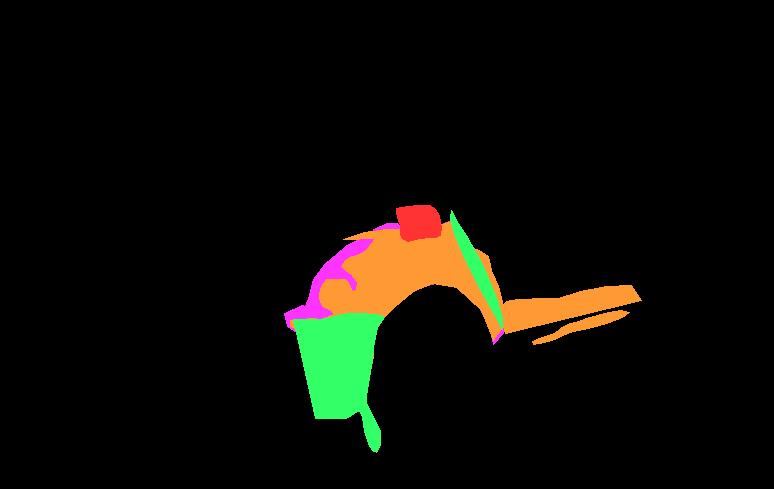Broken part: (293, 313, 384, 452), (450, 210, 502, 329), (359, 396, 379, 451)
Dent: (284, 220, 503, 376), (506, 302, 552, 327)
Missing part: (396, 205, 441, 241)
Paint chip: (290, 221, 502, 374), (497, 285, 641, 333), (470, 247, 549, 324), (532, 310, 629, 344)
